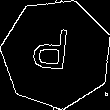P_S: (35, 26, 78, 81)
